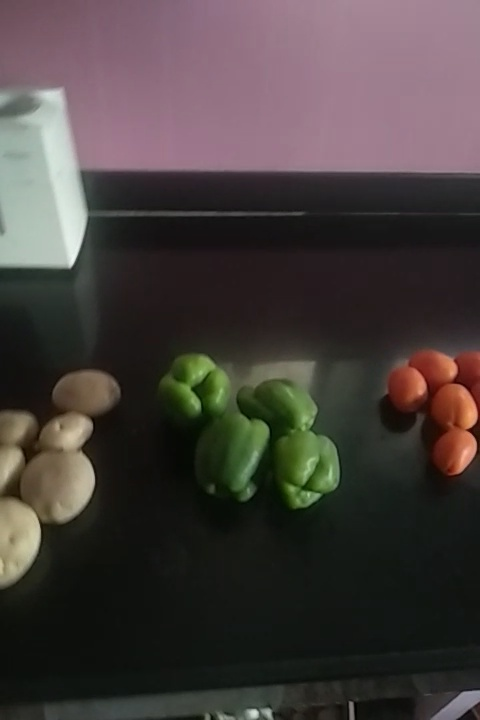capsicum: (195, 403, 266, 500), (258, 428, 340, 508), (225, 372, 316, 436), (151, 354, 232, 425)
potato: (17, 451, 94, 522), (43, 374, 125, 424), (1, 494, 46, 582), (33, 410, 103, 461), (1, 446, 30, 489), (1, 412, 30, 451)
tomato: (426, 421, 475, 483), (428, 381, 477, 431), (378, 362, 424, 411), (408, 351, 459, 387), (452, 346, 480, 390)
